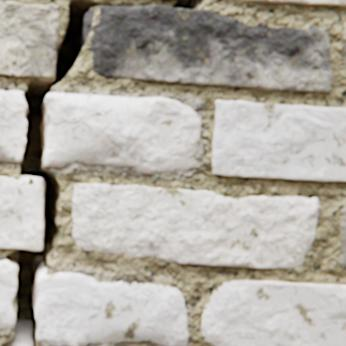brick: (89, 6, 330, 93), (72, 184, 317, 268), (211, 101, 345, 181), (200, 280, 345, 345), (0, 2, 59, 78), (0, 176, 43, 249), (240, 0, 345, 7), (336, 204, 345, 268), (83, 8, 93, 46), (341, 22, 345, 69), (175, 0, 186, 1)
broken_brick: (42, 93, 199, 174), (35, 269, 187, 345), (0, 91, 26, 162), (0, 259, 17, 327)
crack: (1, 0, 131, 345), (171, 0, 201, 10)
